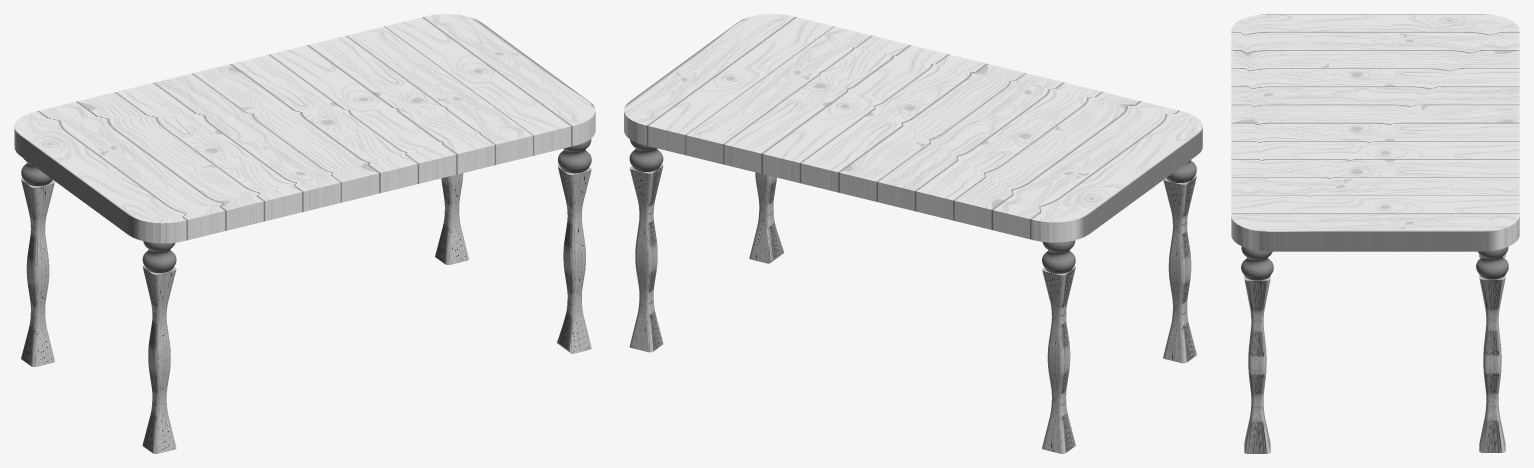
File: mesa comedor.obj
3 views of the same model, side by side, from view 1: azimuth 30°, elevation 25°; view 2: azimuth 150°, elevation 25°; view 3: azimuth 270°, elevation 25° (orthographic). The views are drawn at different scales.
Visible parts, largest first — view 1: Plano.010_Plano.022; view 2: Plano.010_Plano.022; view 3: Plano.010_Plano.022.
Part boxes in pixels (x1=…): Plano.010_Plano.022: x1=14, y1=14, x2=595, y2=453; Plano.010_Plano.022: x1=624, y1=14, x2=1202, y2=453; Plano.010_Plano.022: x1=1231, y1=14, x2=1519, y2=453.
Bounding box in the file's own units: 39.32 × 19.13 × 22.
Materials: 6 (6 with a texture image).
